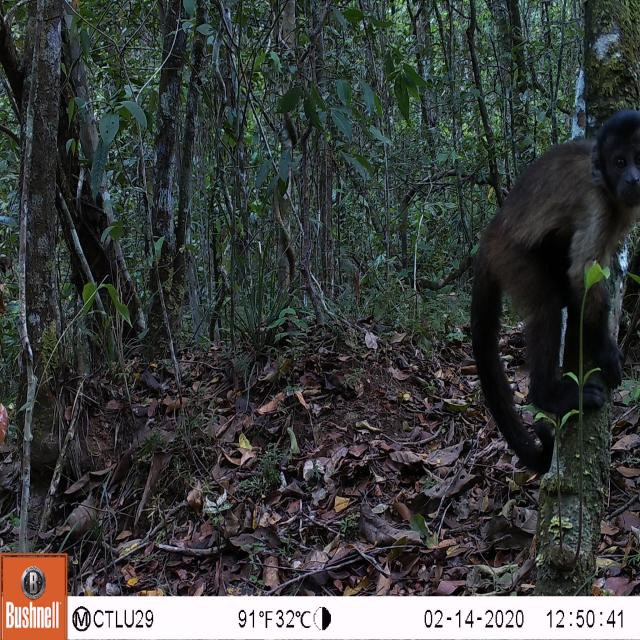Margarita Island Capuchin: (465, 103, 639, 472)
